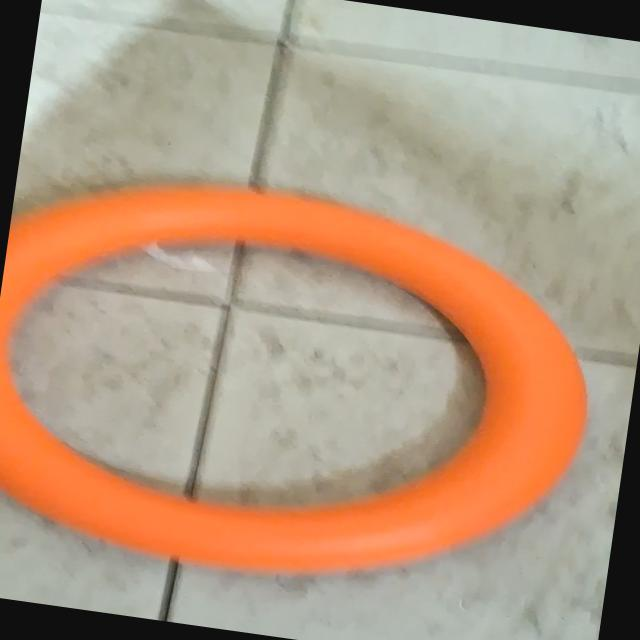note: (0, 150, 615, 617)
